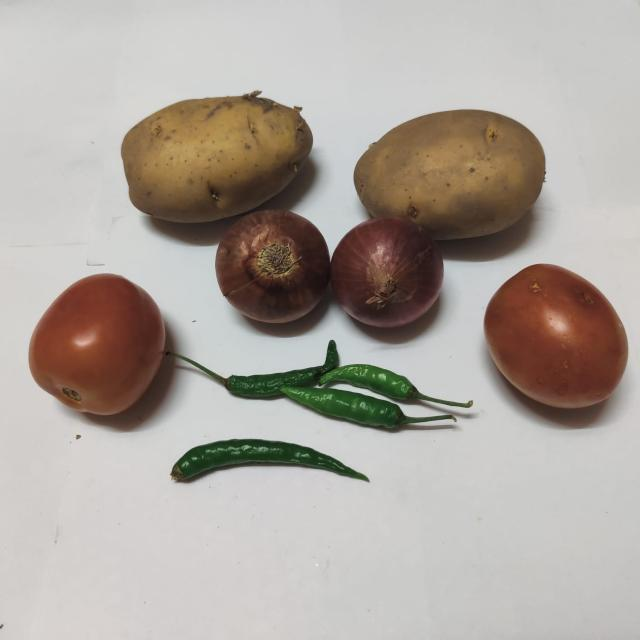Organik: (178, 333, 501, 439), (339, 91, 559, 240), (96, 82, 314, 230), (475, 260, 640, 424), (20, 269, 171, 428), (161, 426, 384, 506), (318, 216, 451, 329), (215, 212, 329, 321)
